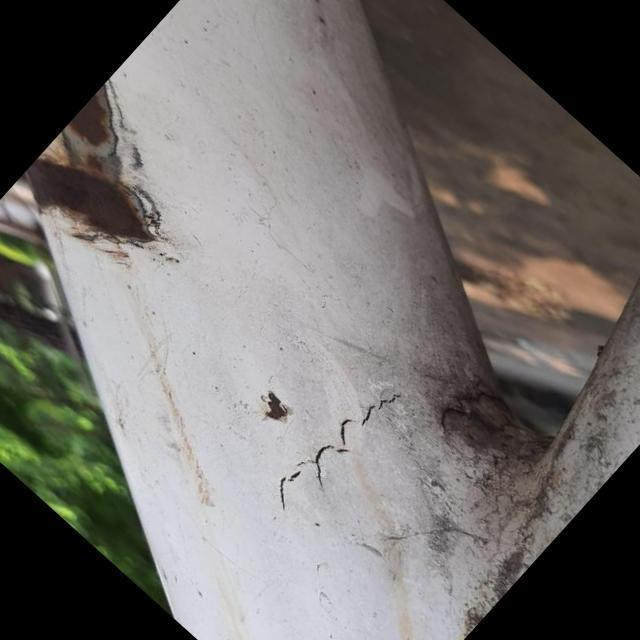defect: (273, 384, 402, 515)
